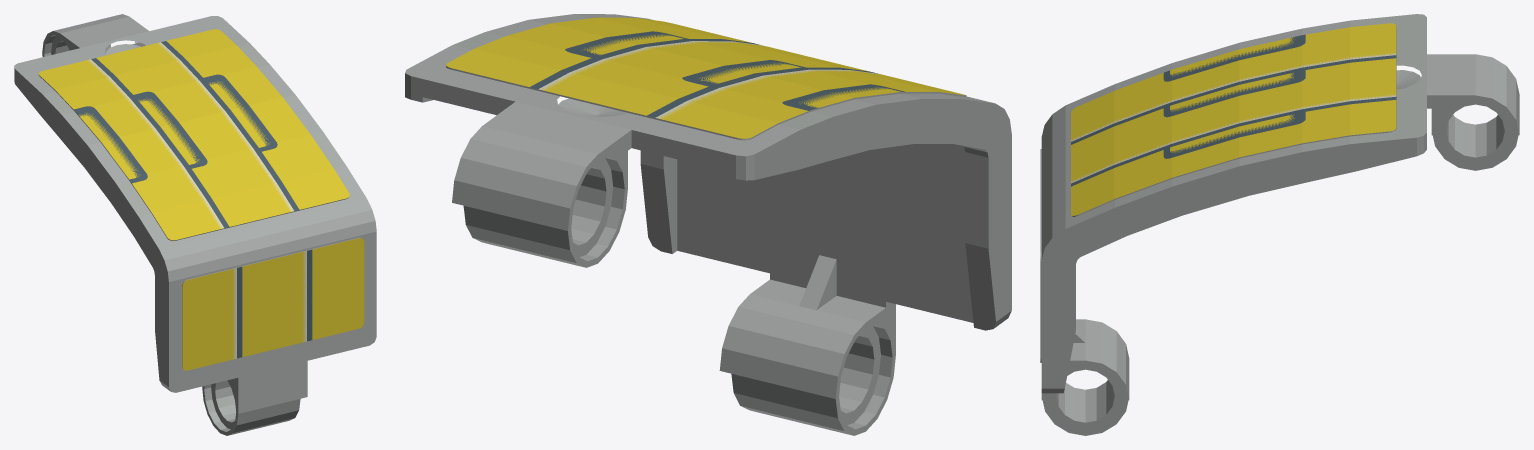
3 renders of one model, left to right at view 1: azimuth 30°, elevation 25°; view 2: azimuth 150°, elevation 25°; view 3: azimuth 270°, elevation 25°, orthographic. The views are drawn at different scales.
Visible parts, largest first — view 1: world; view 2: world; view 3: world.
Part boxes in pixels (x1,y1,x2,y2): world: [14, 14, 376, 435]; world: [405, 14, 1011, 435]; world: [1040, 14, 1519, 435].
Size of the model in its own units: 0.024 by 0.0312 by 0.0393.
